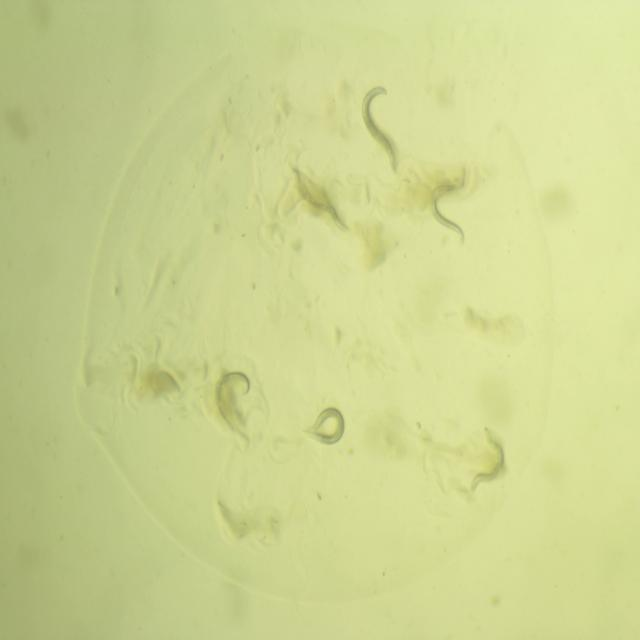worm: (352, 68, 411, 186), (284, 153, 356, 244), (207, 352, 268, 454), (423, 158, 480, 256), (460, 416, 520, 501), (282, 398, 356, 461)
